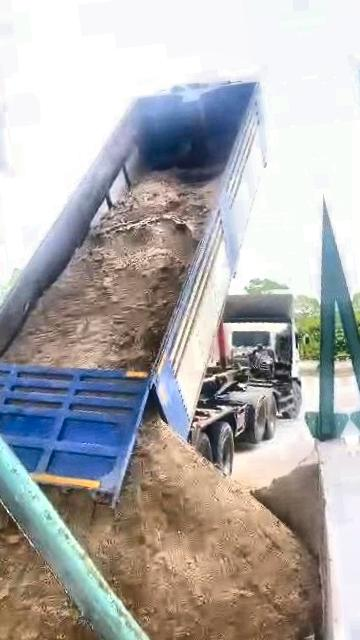sand: (45, 413, 320, 640), (3, 171, 213, 370), (0, 493, 119, 640), (253, 452, 325, 560)
